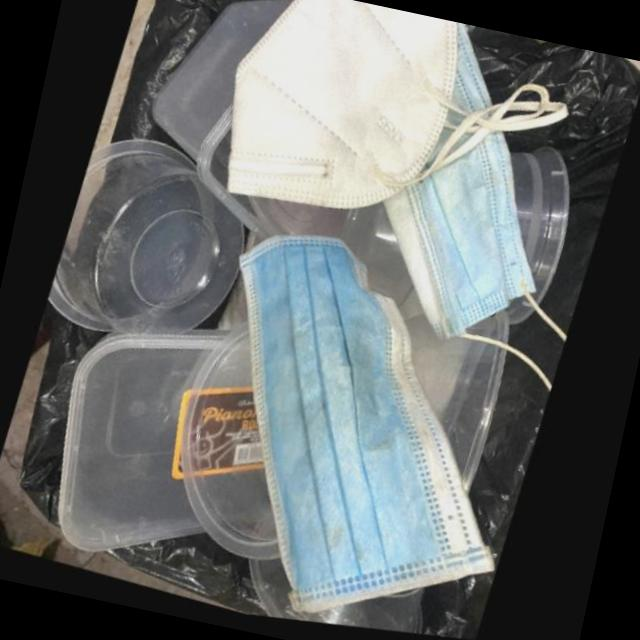hop_nhua: (52, 142, 249, 339), (58, 333, 229, 554), (158, 3, 303, 238), (404, 322, 515, 502), (248, 565, 423, 640), (515, 158, 574, 316)
khau_trang: (244, 241, 494, 619), (233, 0, 575, 216), (387, 141, 539, 349)
